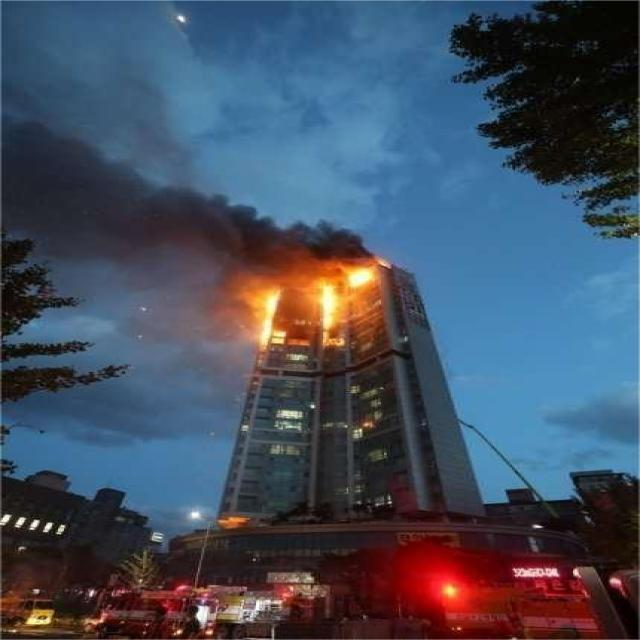Fire: (254, 284, 283, 346), (320, 282, 340, 338), (346, 264, 378, 290)
Smoke: (7, 113, 241, 330), (242, 200, 374, 258)
